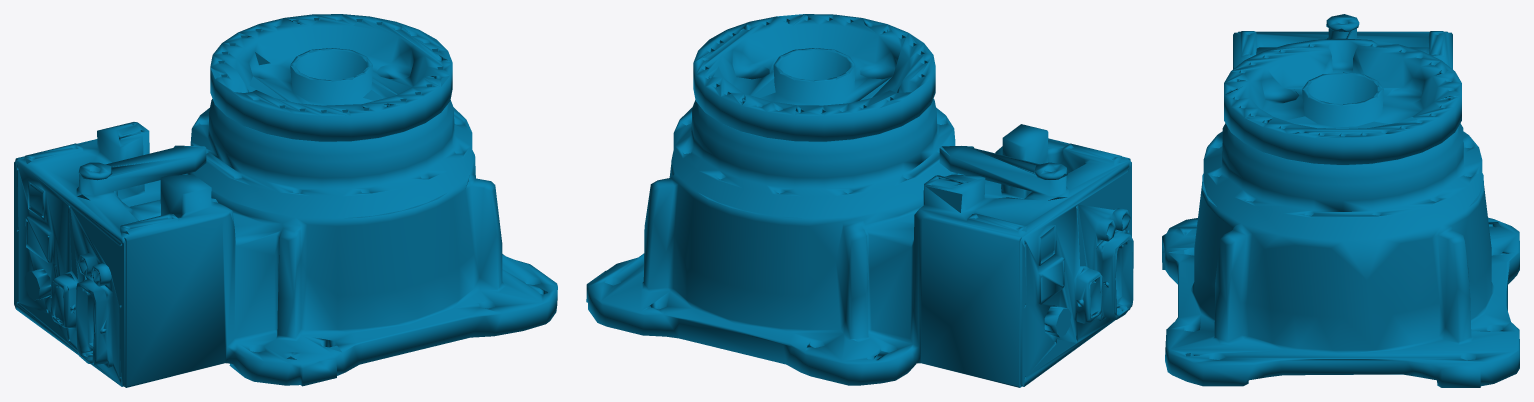
The picture shows the model from 3 angles, left to right: view 1: azimuth 30°, elevation 25°; view 2: azimuth 150°, elevation 25°; view 3: azimuth 270°, elevation 25°; orthographic projection.
Visible parts, largest first — view 1: mh50-35_base; view 2: mh50-35_base; view 3: mh50-35_base.
Boxes of the visible parts, <box> form: mh50-35_base: <box>14,14,557,387</box>; mh50-35_base: <box>586,14,1133,387</box>; mh50-35_base: <box>1162,14,1519,387</box>.
Bounding box in the file's own units: 0.6351 × 0.4552 × 0.3124.
